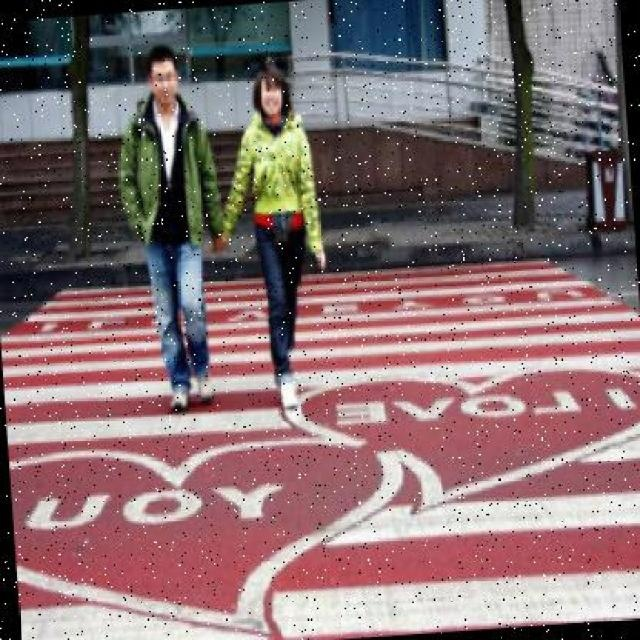obstacle: (109, 43, 234, 406), (209, 63, 336, 415)
